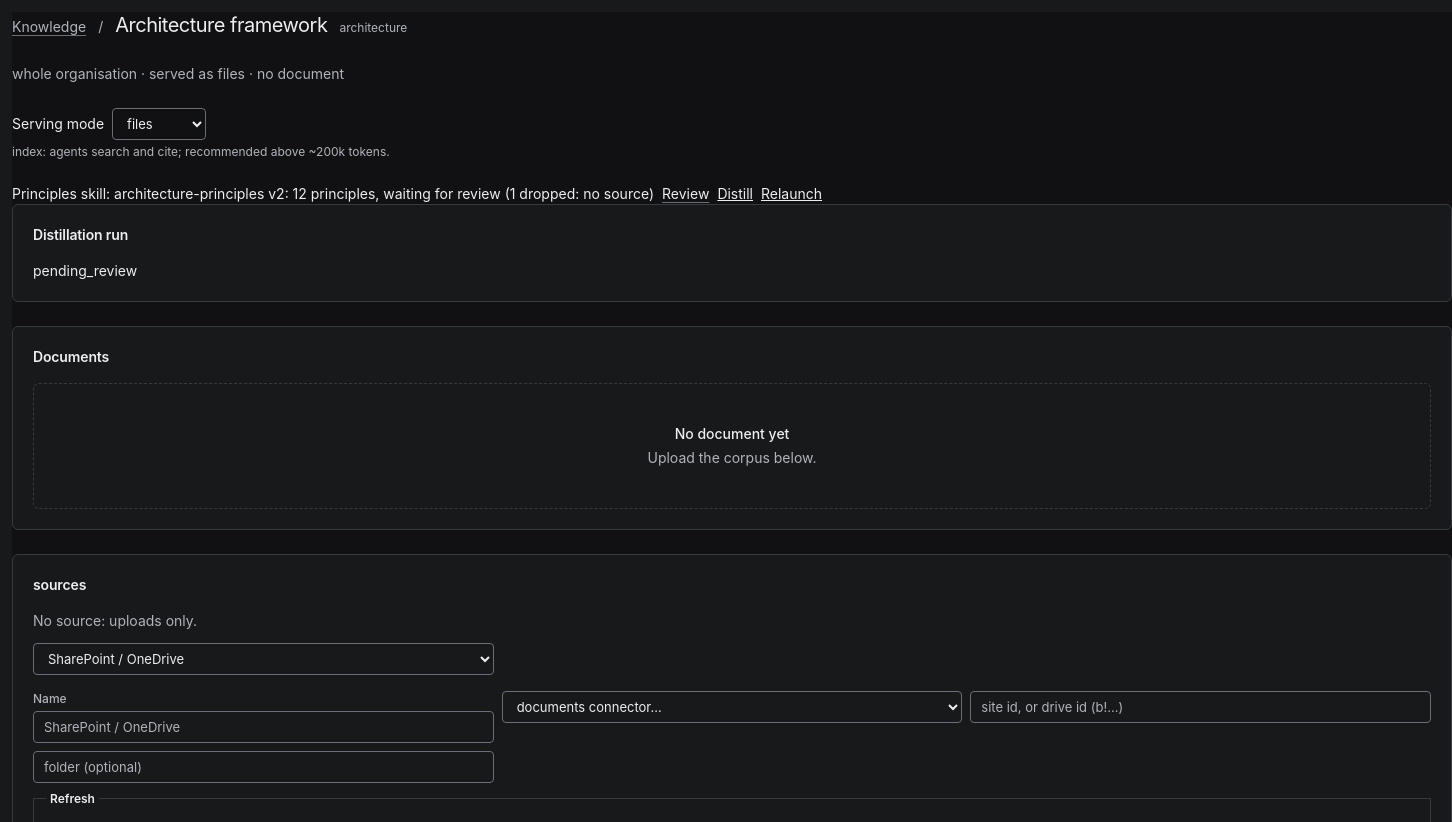
Test: distillation (S33-05) › refuses to start what the platform would refuse, and says why
This screenshot has width=1452, height=822.
Expected: the element with test id "knowledge-distillation" is shown, [12,184,1451,302]
Click the button "Distill" at (735, 194), box [717,184,753,204]
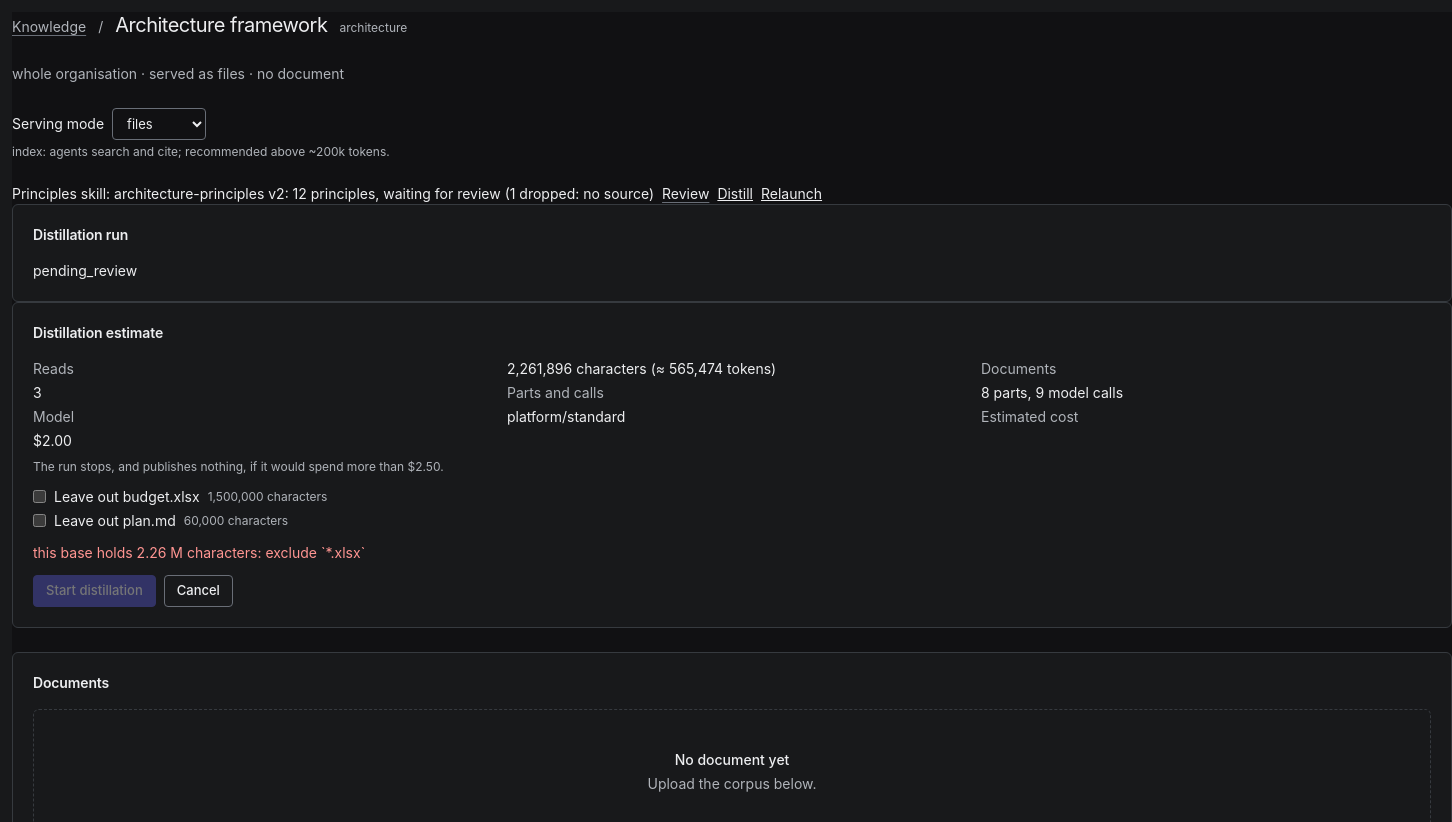
Expected: the message with test id "estimate-refused" shows "exclude `*.xlsx`", [33,544,365,560]
Expected: the button "Start distillation" is disabled, [33,574,156,606]
